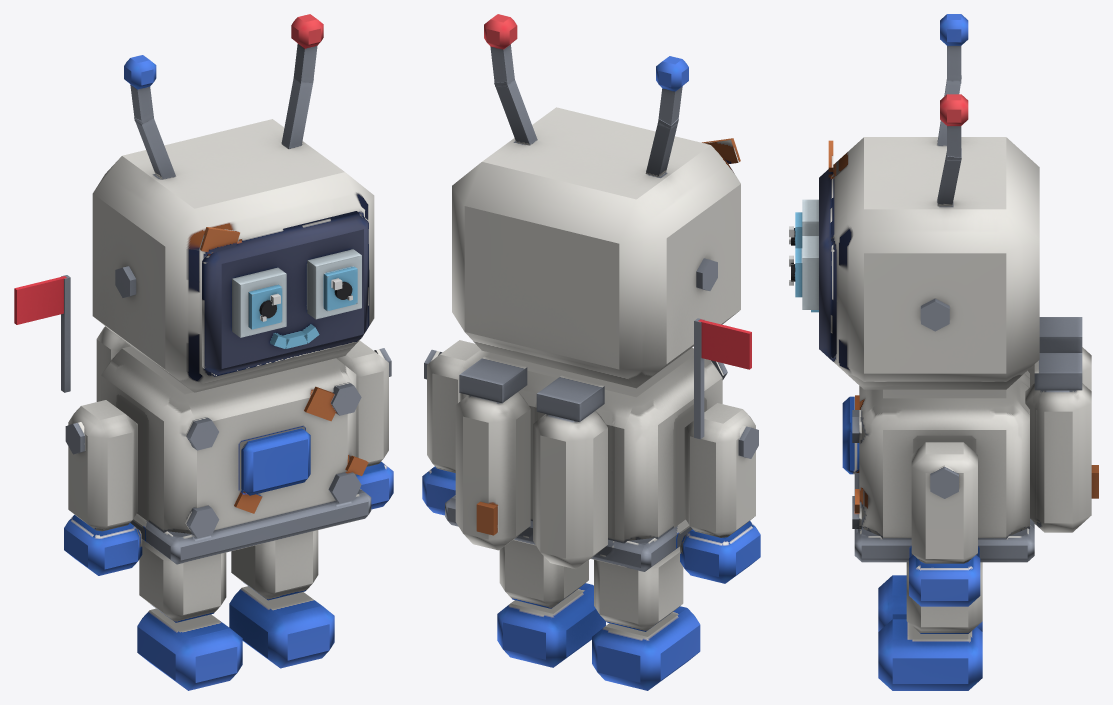
Rendered from AstroBoulon_Rig.fbx.
3 views of the same model, side by side, from view 1: azimuth 30°, elevation 25°; view 2: azimuth 150°, elevation 25°; view 3: azimuth 270°, elevation 25° (orthographic). The views are drawn at different scales.
Parts seen in each view (by area): view 1: Head, Body, ArmR, LegR, LegL, ArmL; view 2: Head, Body, ArmR, LegR, LegL, ArmL; view 3: Head, Body, ArmL, LegL, LegR.
Part boxes in pixels (x1,y1,x2,y2): Head: [92, 14, 374, 392]; Body: [96, 326, 371, 564]; ArmR: [14, 275, 142, 575]; LegR: [137, 539, 242, 690]; LegL: [229, 530, 334, 668]; ArmL: [336, 340, 393, 509]; Head: [452, 14, 740, 388]; Body: [445, 348, 727, 571]; ArmR: [680, 318, 760, 583]; LegR: [592, 546, 700, 690]; LegL: [497, 540, 605, 667]; ArmL: [422, 340, 490, 515]; Head: [789, 14, 1039, 389]; Body: [842, 317, 1098, 562]; ArmL: [909, 442, 980, 606]; LegL: [878, 562, 982, 690]; LegR: [878, 575, 982, 631].
Size of the model in its own units: 3.48 by 6 by 2.8.
1 material, 1 textured.
